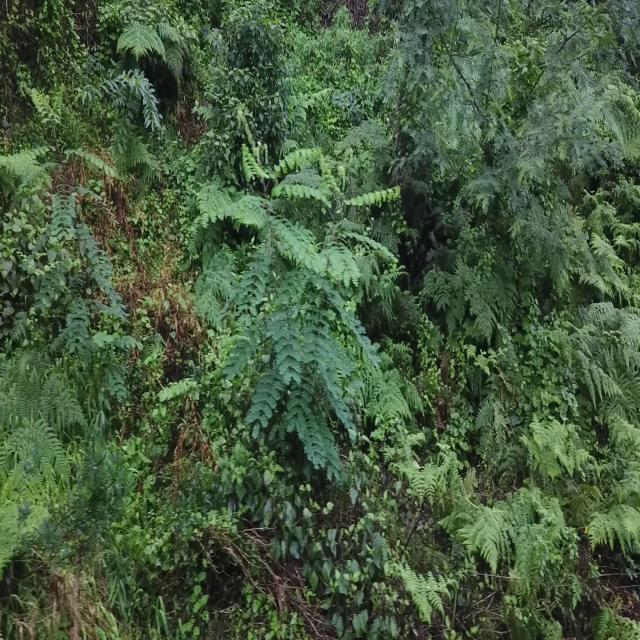Mysore-Thorn-Weed: (212, 174, 379, 492), (0, 72, 126, 369)
